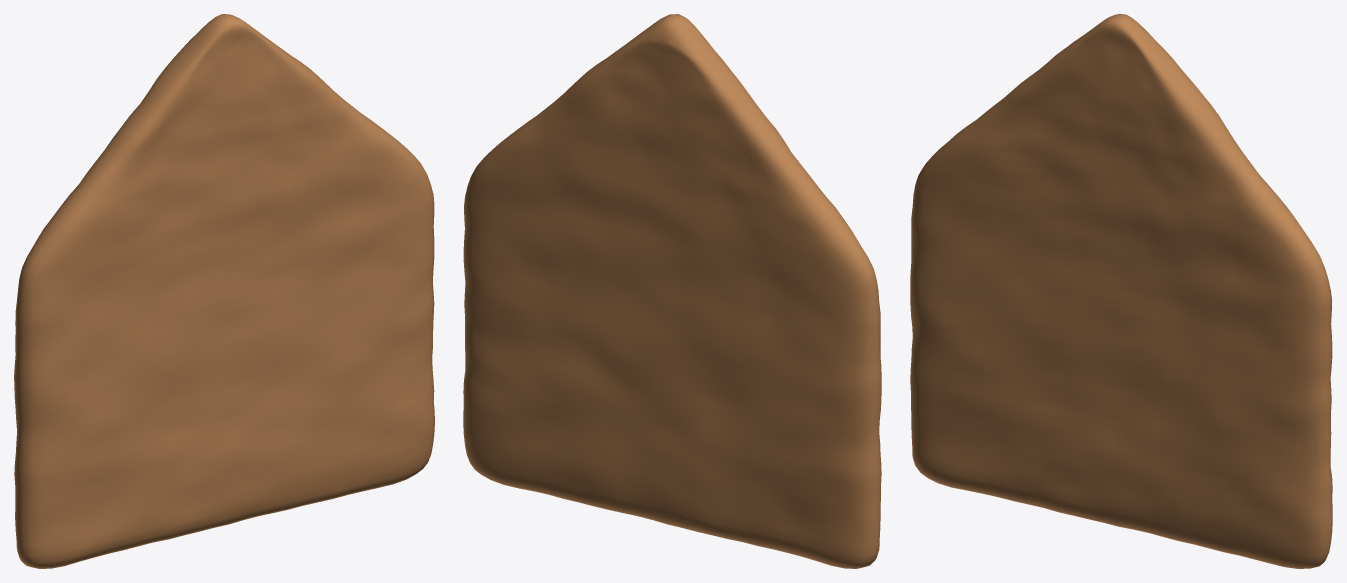
The model's file is Front_back.fbx.
3 renders of one model, left to right at view 1: azimuth 30°, elevation 25°; view 2: azimuth 150°, elevation 25°; view 3: azimuth 330°, elevation 25°, orthographic.
Visible parts, largest first — view 1: Cube.002; view 2: Cube.002; view 3: Cube.002.
Part boxes in pixels (x1=…): Cube.002: x1=14, y1=14, x2=434, y2=568; Cube.002: x1=463, y1=14, x2=881, y2=568; Cube.002: x1=910, y1=14, x2=1332, y2=568.
Bounding box in the file's own units: 145 × 170 × 13.89.
